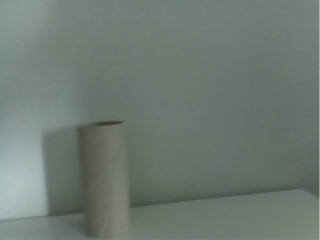rollo papel: (75, 120, 130, 240)
